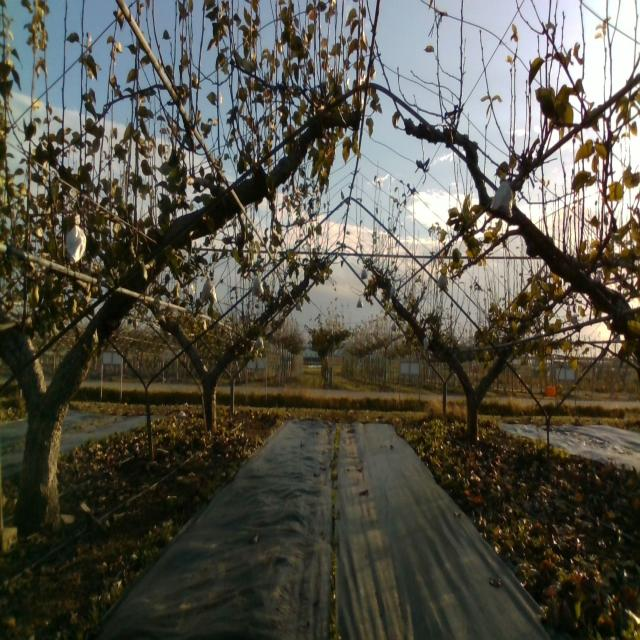pearbags: (490, 180, 518, 220), (65, 215, 87, 261), (202, 278, 218, 306), (251, 275, 266, 298)
